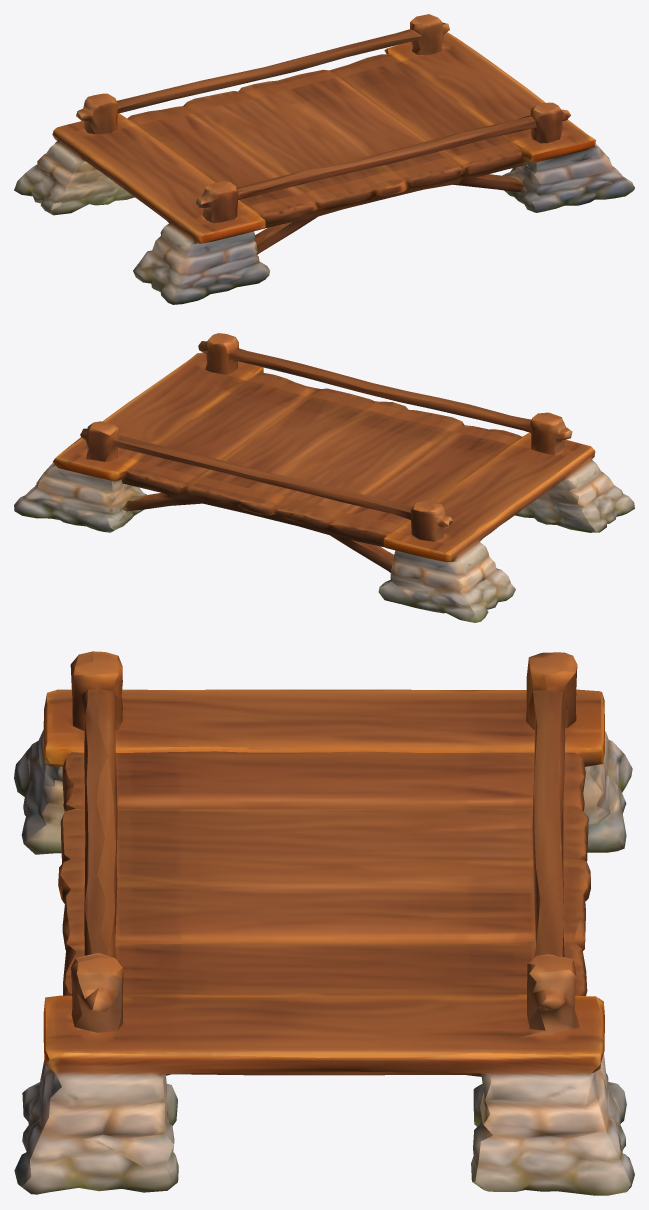
Rendered from ENV-05.glb.
The picture shows the model from 3 angles, top to bottom: view 1: azimuth 30°, elevation 25°; view 2: azimuth 150°, elevation 25°; view 3: azimuth 270°, elevation 25°; orthographic projection. The views are drawn at different scales.
Parts seen in each view (by area): view 1: ENV-05; view 2: ENV-05; view 3: ENV-05.
Part boxes in pixels (x1,y1,x2,y2): ENV-05: (14, 14, 634, 304); ENV-05: (14, 333, 634, 622); ENV-05: (14, 651, 634, 1195).
Bounding box in the file's own units: 3.8 × 0.7 × 2.3.
Materials: 1 (1 with a texture image).
